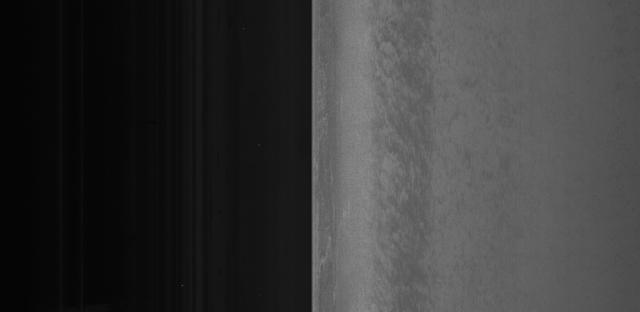silk_spot: (355, 135, 436, 215)
